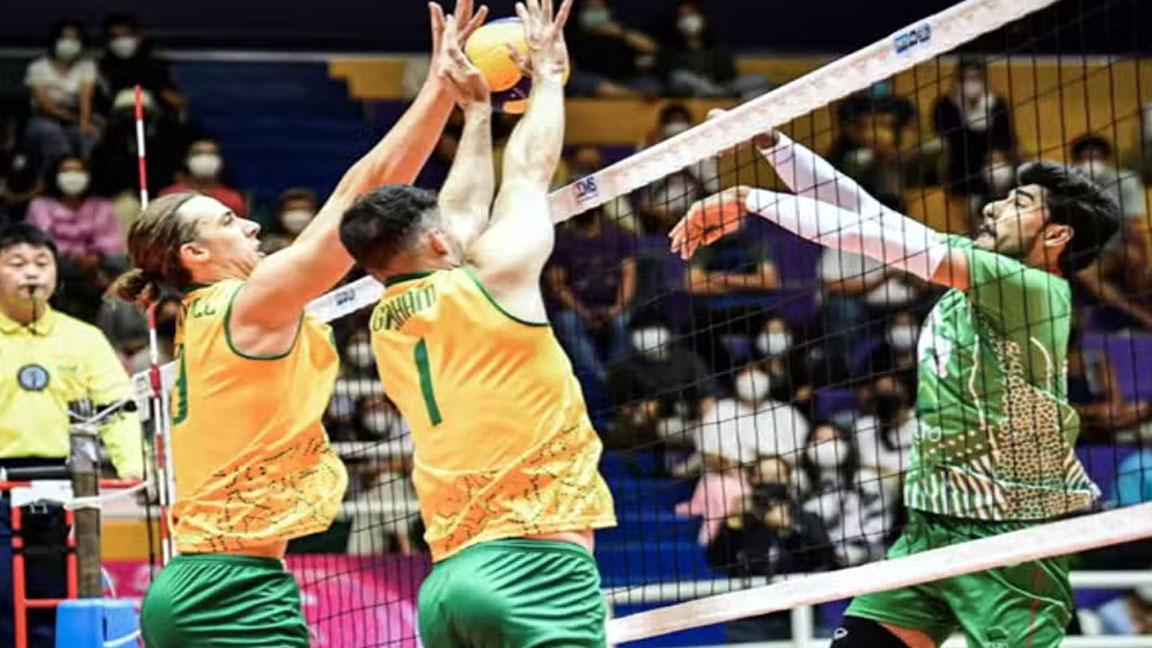ballon_volley: (461, 13, 570, 115)
